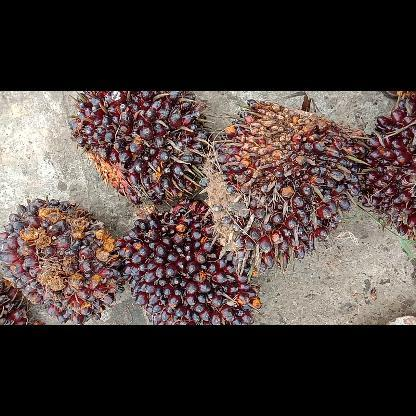Kurang masak: (197, 97, 368, 279), (115, 198, 264, 324), (64, 91, 212, 207), (0, 196, 126, 324), (353, 96, 415, 244)
